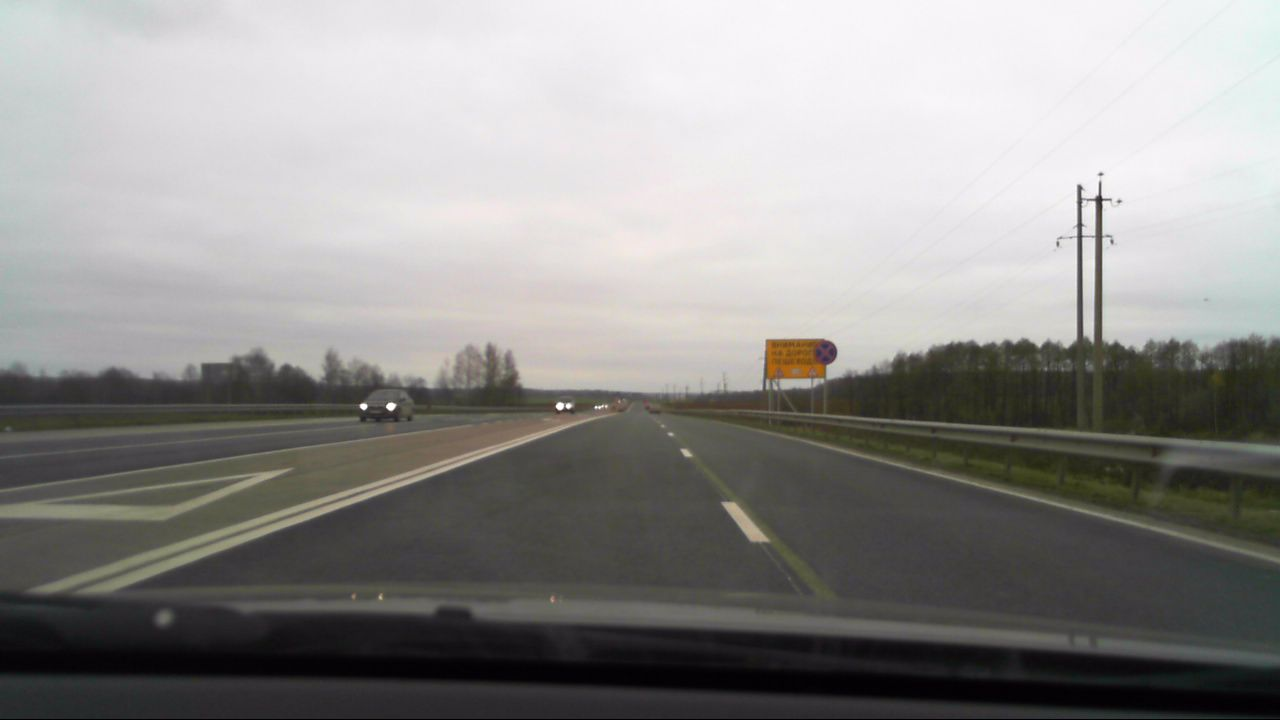No Parking: (809, 340, 841, 369)
